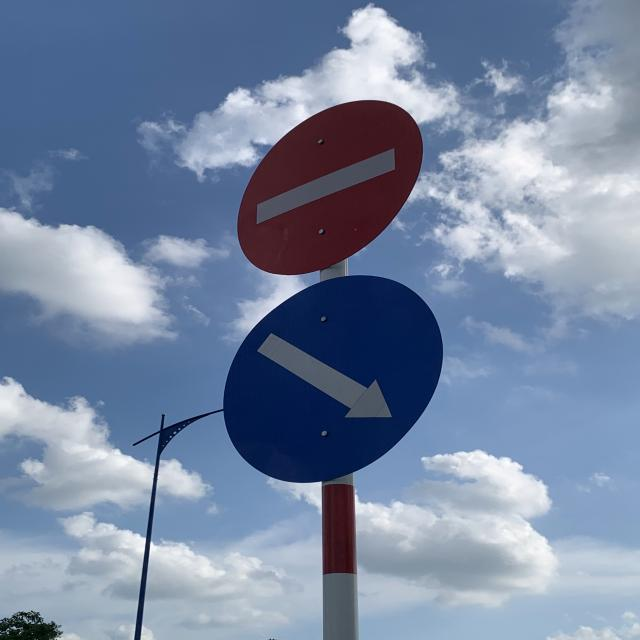Cam_Di_Nguoc_Chieu: (235, 97, 428, 276)
Chi_Huong_Di_Phai: (224, 278, 448, 486)
